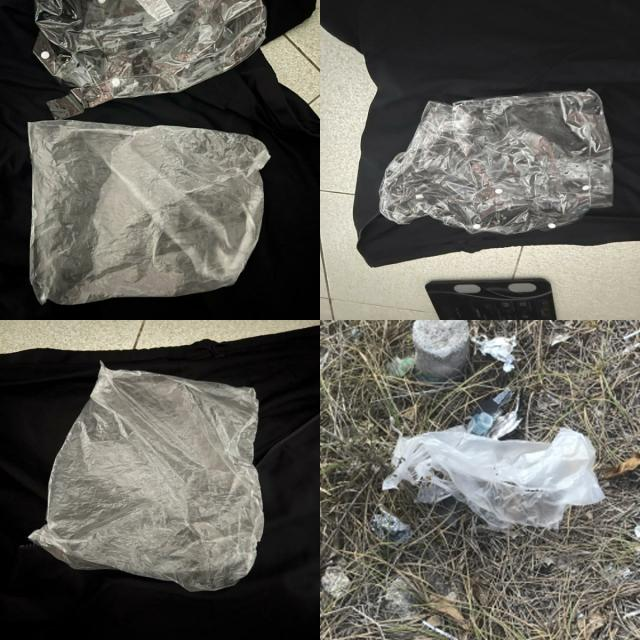Single-layer Plastic: (29, 364, 264, 591), (29, 120, 270, 304), (379, 89, 612, 234), (34, 0, 266, 120), (382, 426, 604, 529)
